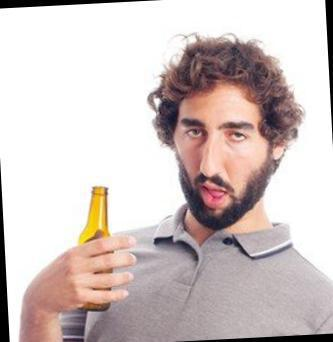Drunk: (174, 92, 265, 216)
